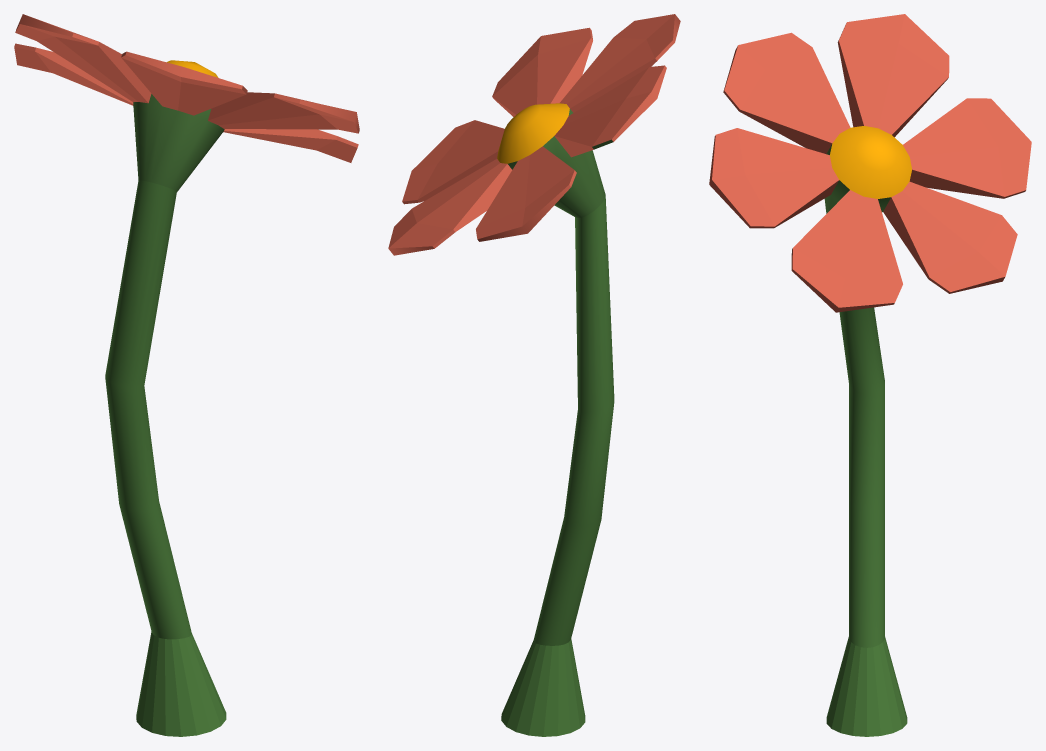
The model's file is FlowerTest.FBX.
3 views of the same model, side by side, from view 1: azimuth 30°, elevation 25°; view 2: azimuth 150°, elevation 25°; view 3: azimuth 270°, elevation 25° (orthographic). The views are drawn at different scales.
Visible parts, largest first — view 1: Cylinder001; view 2: Cylinder001; view 3: Cylinder001.
Boxes of the visible parts, x1=… form: Cylinder001: x1=14, y1=14, x2=359, y2=736; Cylinder001: x1=388, y1=14, x2=680, y2=736; Cylinder001: x1=709, y1=14, x2=1031, y2=736.
Bounding box in the file's own units: 29.72 × 68.64 × 31.
